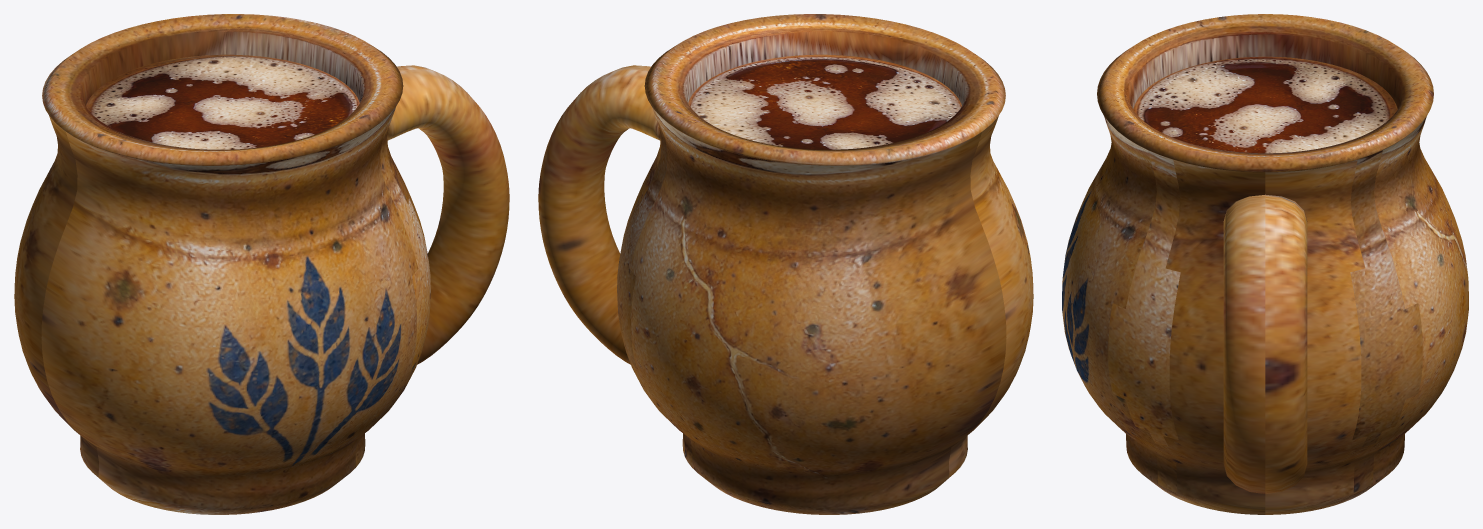
File: mug_of_ale.obj
3 views of the same model, side by side, from view 1: azimuth 30°, elevation 25°; view 2: azimuth 150°, elevation 25°; view 3: azimuth 270°, elevation 25° (orthographic).
Parts seen in each view (by area): view 1: A_MeasuredHollowCeramic.001_Mug_multiview_glaze, C_RecessedAleAndFoam.001_Mug_multiview_glaze, B_MultiviewMeasuredHandle.001_Mug_multiview_glaze; view 2: A_MeasuredHollowCeramic.001_Mug_multiview_glaze, C_RecessedAleAndFoam.001_Mug_multiview_glaze, B_MultiviewMeasuredHandle.001_Mug_multiview_glaze; view 3: A_MeasuredHollowCeramic.001_Mug_multiview_glaze, B_MultiviewMeasuredHandle.001_Mug_multiview_glaze, C_RecessedAleAndFoam.001_Mug_multiview_glaze.
Boxes of the visible parts, <box> form: A_MeasuredHollowCeramic.001_Mug_multiview_glaze: <box>14,14,430,514</box>; C_RecessedAleAndFoam.001_Mug_multiview_glaze: <box>86,54,359,149</box>; B_MultiviewMeasuredHandle.001_Mug_multiview_glaze: <box>387,65,509,364</box>; A_MeasuredHollowCeramic.001_Mug_multiview_glaze: <box>617,14,1033,514</box>; C_RecessedAleAndFoam.001_Mug_multiview_glaze: <box>688,54,961,149</box>; B_MultiviewMeasuredHandle.001_Mug_multiview_glaze: <box>538,65,660,364</box>; A_MeasuredHollowCeramic.001_Mug_multiview_glaze: <box>1062,14,1468,514</box>; B_MultiviewMeasuredHandle.001_Mug_multiview_glaze: <box>1223,194,1307,493</box>; C_RecessedAleAndFoam.001_Mug_multiview_glaze: <box>1133,56,1397,153</box>.
Size of the model in its own units: 2.61 by 2.05 by 2.02.
Materials: 3 (1 with a texture image).
